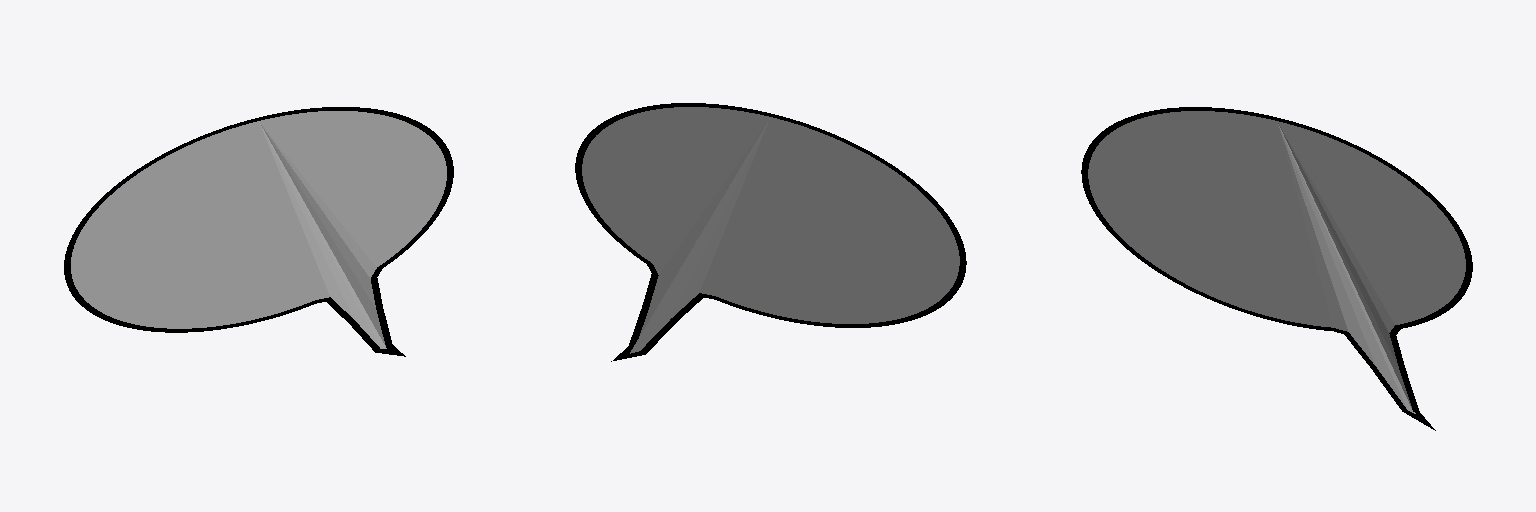
File: dialogbubblemirrored.obj
The picture shows the model from 3 angles: view 1: azimuth 30°, elevation 25°; view 2: azimuth 150°, elevation 25°; view 3: azimuth 330°, elevation 25°; orthographic projection.
Visible parts, largest first — view 1: Circle; view 2: Circle; view 3: Circle.
Boxes of the visible parts, <box> form: Circle: <box>64,107,453,356</box>; Circle: <box>575,103,966,361</box>; Circle: <box>1081,107,1472,430</box>.
Size of the model in its own units: 4 by 2.75 by 0.1166.